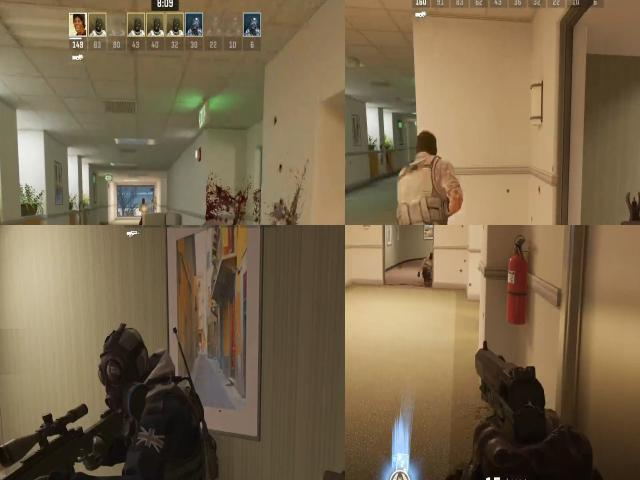CT: (94, 317, 208, 480)
CT-Head: (94, 320, 155, 419)
Dead: (413, 252, 436, 289)
T: (379, 131, 463, 225), (138, 199, 150, 213)
T-Head: (407, 124, 447, 166), (139, 196, 148, 205)
